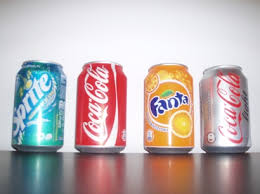fanta: (144, 67, 193, 154)
